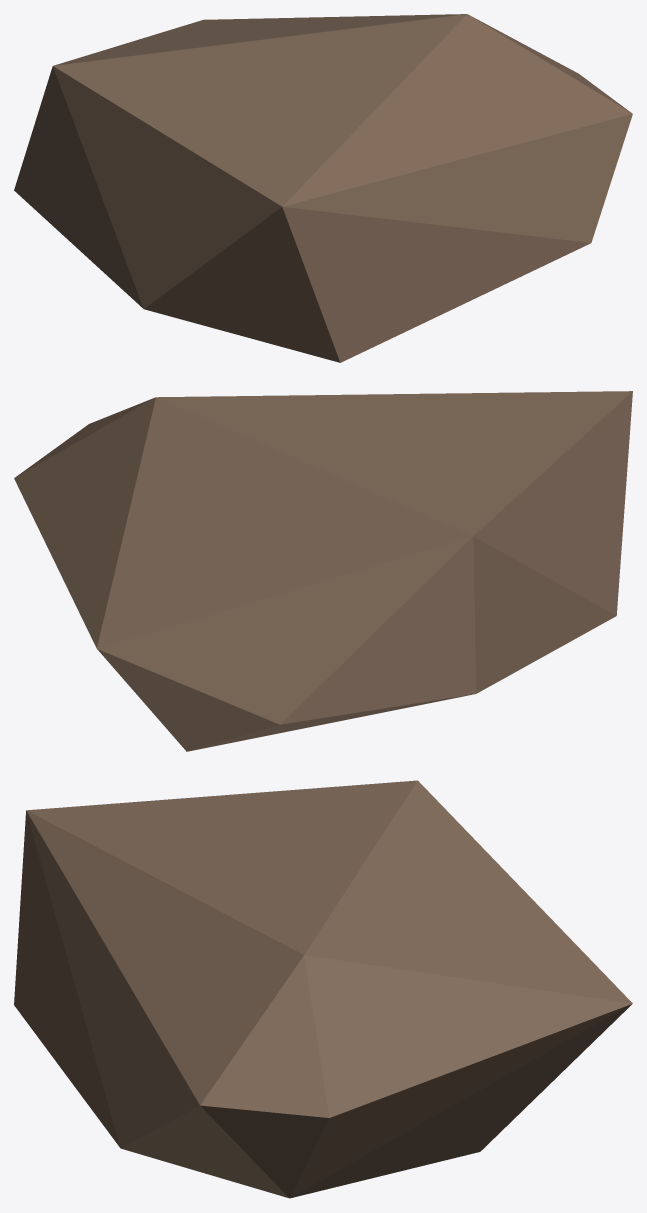
Rendered from LandscapeRock3.fbx.
The picture shows the model from 3 angles, top to bottom: view 1: azimuth 30°, elevation 25°; view 2: azimuth 150°, elevation 25°; view 3: azimuth 270°, elevation 25°; orthographic projection. The views are drawn at different scales.
Visible parts, largest first — view 1: LandscapeRock3; view 2: LandscapeRock3; view 3: LandscapeRock3.
Part boxes in pixels (bbox=[...]): LandscapeRock3: bbox=[14, 14, 632, 362]; LandscapeRock3: bbox=[14, 391, 632, 751]; LandscapeRock3: bbox=[14, 780, 632, 1198].
Size of the model in its own units: 108 by 50.51 by 111.
